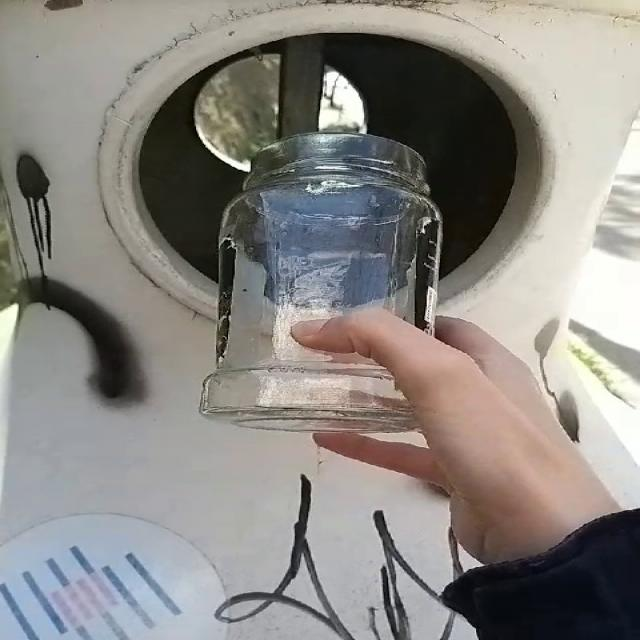glass: (200, 134, 441, 432)
